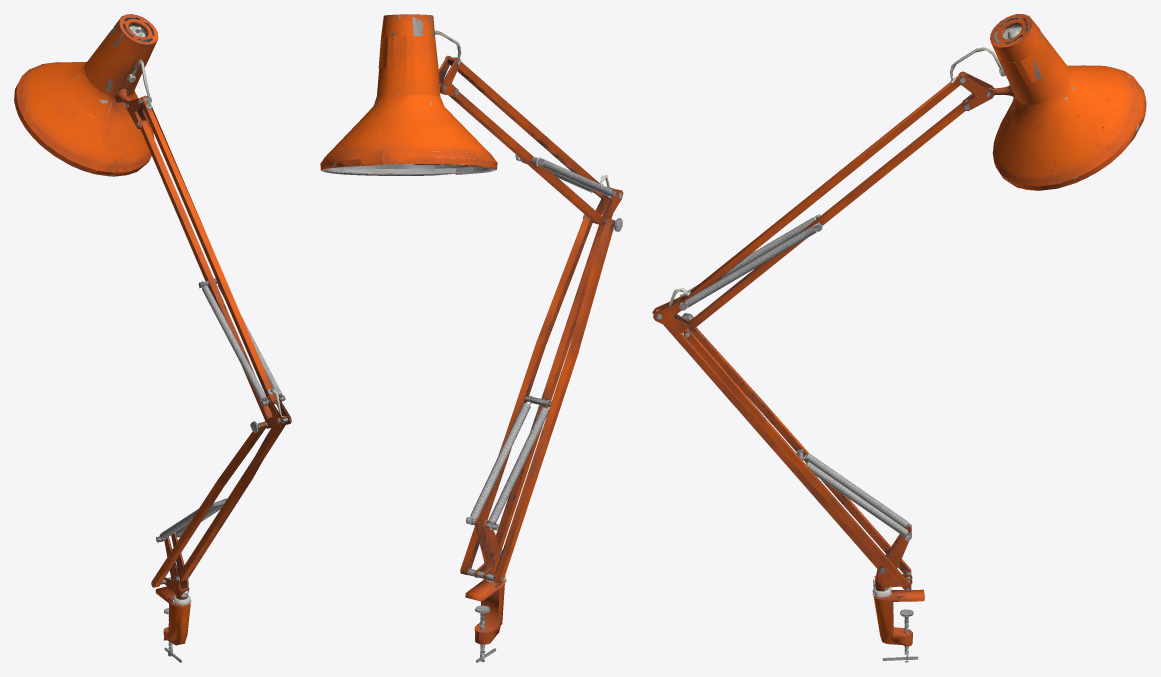
Rendered from desk_lamp_arm_01.glb.
3 views of the same model, side by side, from view 1: azimuth 30°, elevation 25°; view 2: azimuth 150°, elevation 25°; view 3: azimuth 270°, elevation 25° (orthographic). The views are drawn at different scales.
Parts seen in each view (by area): view 1: desk_lamp_arm_01; view 2: desk_lamp_arm_01; view 3: desk_lamp_arm_01.
Part boxes in pixels (x1,y1,x2,y2): desk_lamp_arm_01: [14, 14, 291, 662]; desk_lamp_arm_01: [320, 14, 623, 662]; desk_lamp_arm_01: [652, 14, 1146, 662].
Bounding box in the file's own units: 0.2021 × 0.893 × 0.6151.
2 materials, 2 textured.
